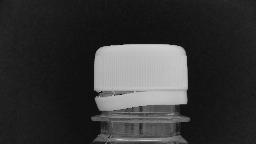Broken Ring: (88, 84, 160, 114)
